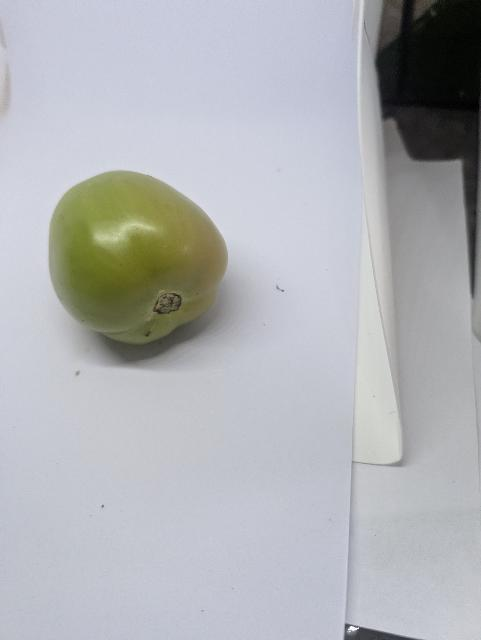green: (32, 161, 242, 373)
